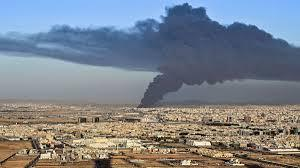smoke: (140, 72, 181, 108)
